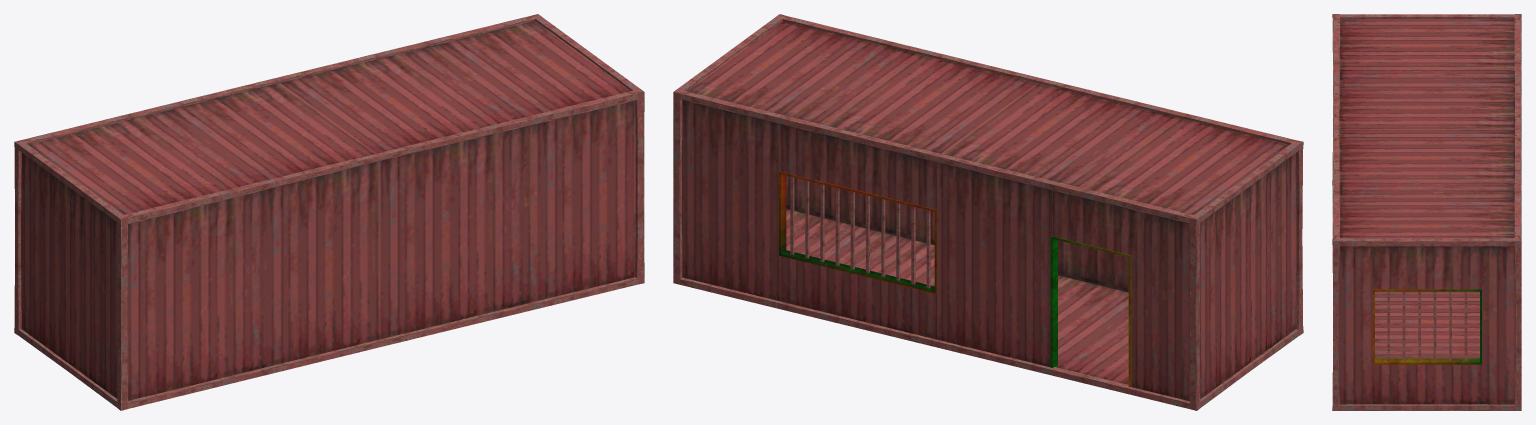
Rendered from containerbuilding_red_containers_mobile_0_lev1.glb.
3 views of the same model, side by side, from view 1: azimuth 30°, elevation 25°; view 2: azimuth 150°, elevation 25°; view 3: azimuth 270°, elevation 25° (orthographic). The views are drawn at different scales.
Parts seen in each view (by area): view 1: containerbuilding_red_containers_mobile_0_lev1; view 2: containerbuilding_red_containers_mobile_0_lev1; view 3: containerbuilding_red_containers_mobile_0_lev1.
Boxes of the visible parts, box(x1,y1,x2,y2) form: containerbuilding_red_containers_mobile_0_lev1: box(14, 14, 644, 410); containerbuilding_red_containers_mobile_0_lev1: box(673, 14, 1303, 410); containerbuilding_red_containers_mobile_0_lev1: box(1332, 14, 1521, 410).
Bounding box in the file's own units: 5.37 × 1.87 × 1.89.
1 material, 1 textured.
